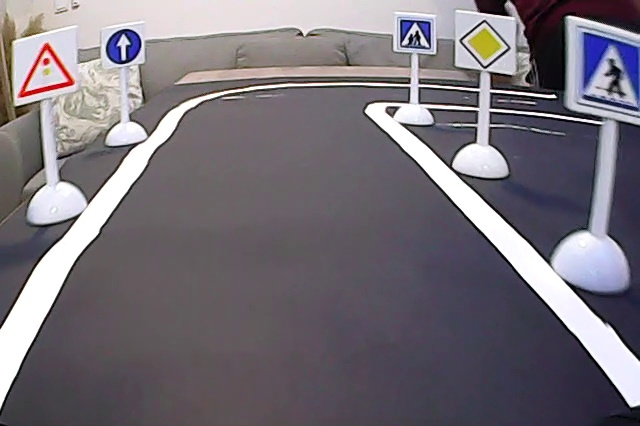pedestrian crossing: (573, 24, 640, 117)
red light: (15, 36, 80, 98)
school crossing: (397, 16, 434, 53)
